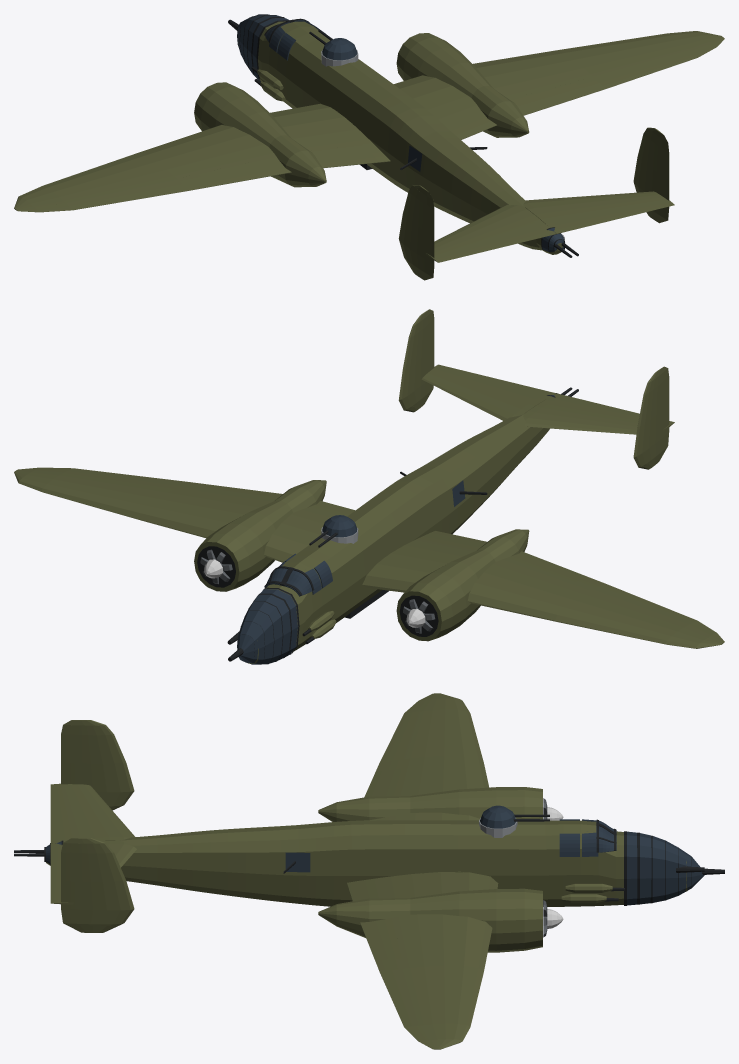
3 views of the same model, one above another, from view 1: azimuth 30°, elevation 25°; view 2: azimuth 150°, elevation 25°; view 3: azimuth 270°, elevation 25° (orthographic). The views are drawn at different scales.
Visible parts, largest first — view 1: Fuselage, Wing L, Nacelles, Wing R, Flap L, Stabilizer L, Stabilizer R, Flap R, Vertical Fin, Aileron L, Vertical Fin 2, Elevator L (+9 smaller); view 2: Fuselage, Wing L, Wing R, Nacelles, Nose Glass, Stabilizer R, Stabilizer L, Vertical Fin, Vertical Fin 2, Cowl Face, Flap L, Cockpit Glass (+10 smaller); view 3: Fuselage, Nacelles, Wing R, Wing L, Vertical Fin 2, Nose Glass, Vertical Fin, Stabilizer L, Flap R, Rudder 2, Aileron R, Cockpit Glass (+8 smaller).
Part boxes in pixels (x1,y1,x2,y2): Fuselage: (238,21,541,250); Wing L: (14,103,390,212); Nacelles: (194,33,529,187); Wing R: (393,31,724,122); Flap L: (198,144,379,186); Stabilizer L: (425,204,541,258); Stabilizer R: (523,191,666,220); Flap R: (442,82,587,139); Vertical Fin: (398,185,433,280); Aileron L: (40,178,188,211); Vertical Fin 2: (633,127,667,223); Elevator L: (432,221,555,262); Fuselage: (248,414,549,663); Wing L: (362,531,724,648); Wing R: (14,467,333,562); Nacelles: (194,480,529,641); Nose Glass: (237,589,297,664); Stabilizer R: (421,368,541,420); Stabilizer L: (523,402,668,434); Vertical Fin: (633,366,667,469); Vertical Fin 2: (398,309,432,412); Cowl Face: (197,546,438,636); Flap L: (428,533,586,582); Cockpit Glass: (264,553,332,596); Fuselage: (119,820,687,906); Nacelles: (318,787,542,952); Wing R: (347,871,498,1049); Wing L: (375,693,489,820); Vertical Fin 2: (63,838,134,932); Nose Glass: (627,831,704,905); Vertical Fin: (63,720,134,810); Stabilizer L: (64,784,134,840); Flap R: (348,881,401,961); Rudder 2: (61,843,79,925); Aileron R: (379,968,427,1038); Cockpit Glass: (559,819,616,856).
Bounding box in the file's own units: 20.6 × 3.42 × 17.4.
